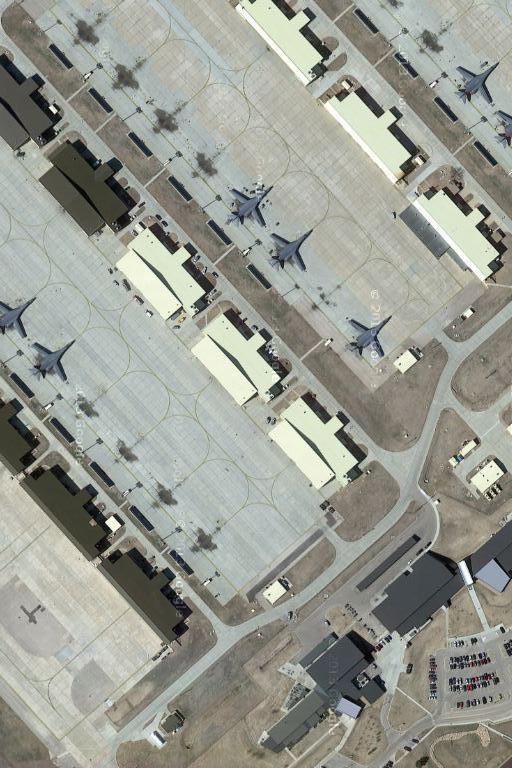B-1B: (454, 59, 501, 106), (344, 314, 394, 358), (264, 229, 314, 273), (29, 338, 77, 383), (225, 185, 274, 229), (1, 293, 40, 341)
